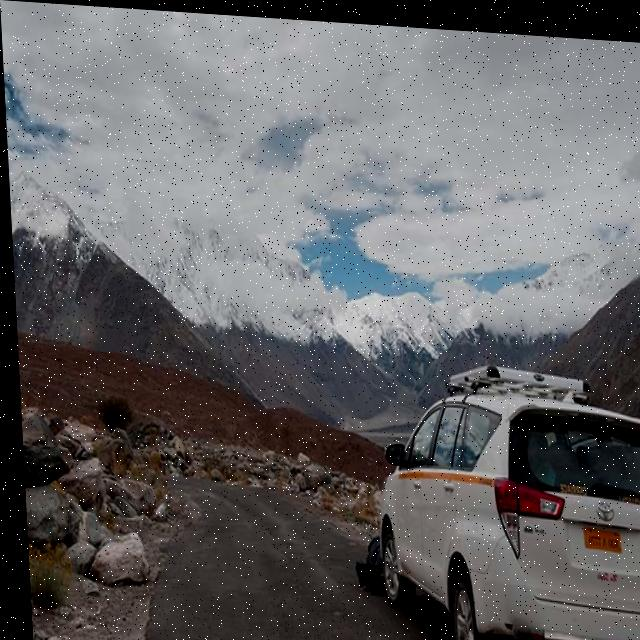plate: (572, 516, 620, 546)
